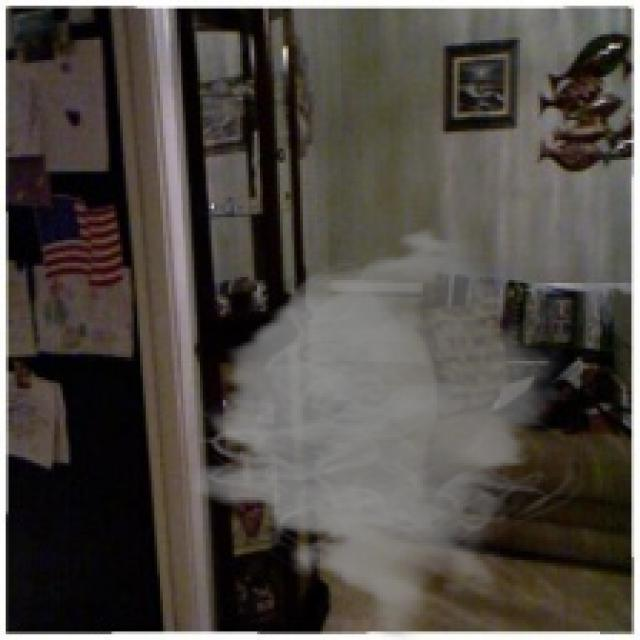Smoke: (172, 225, 597, 638)
